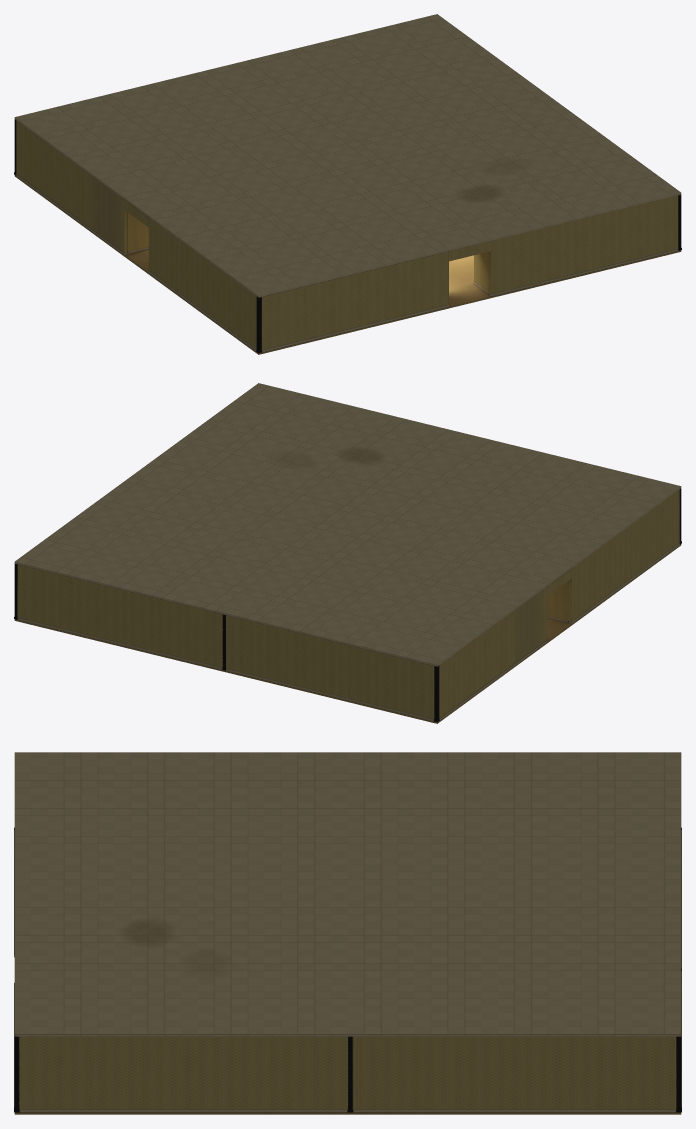
3 views of the same model, one above another, from view 1: azimuth 30°, elevation 25°; view 2: azimuth 150°, elevation 25°; view 3: azimuth 270°, elevation 25° (orthographic). The views are drawn at different scales.
Visible parts, largest first — view 1: Ceiling, Walls, Floor, Pillars; view 2: Ceiling, Walls, Pillars, Floor; view 3: Ceiling, Walls, Pillars, Floor.
Boxes of the visible parts, bbox=[...] form: Ceiling: bbox=[14, 14, 681, 297]; Walls: bbox=[14, 119, 681, 350]; Floor: bbox=[14, 175, 681, 354]; Pillars: bbox=[14, 172, 681, 353]; Ceiling: bbox=[14, 383, 681, 666]; Walls: bbox=[14, 488, 681, 719]; Pillars: bbox=[14, 541, 681, 722]; Floor: bbox=[14, 544, 681, 723]; Ceiling: bbox=[14, 752, 681, 1036]; Walls: bbox=[14, 1036, 681, 1109]; Pillars: bbox=[14, 827, 681, 1112]; Floor: bbox=[14, 1112, 681, 1114].
Size of what is drawn, in the model's own units: 24.04 by 3.2 by 24.04.
7 materials, 5 textured.
